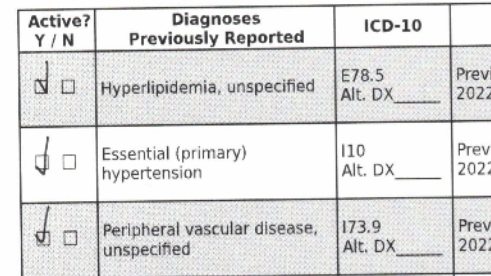checked: (28, 132, 56, 183), (29, 205, 56, 257), (29, 56, 53, 103)
